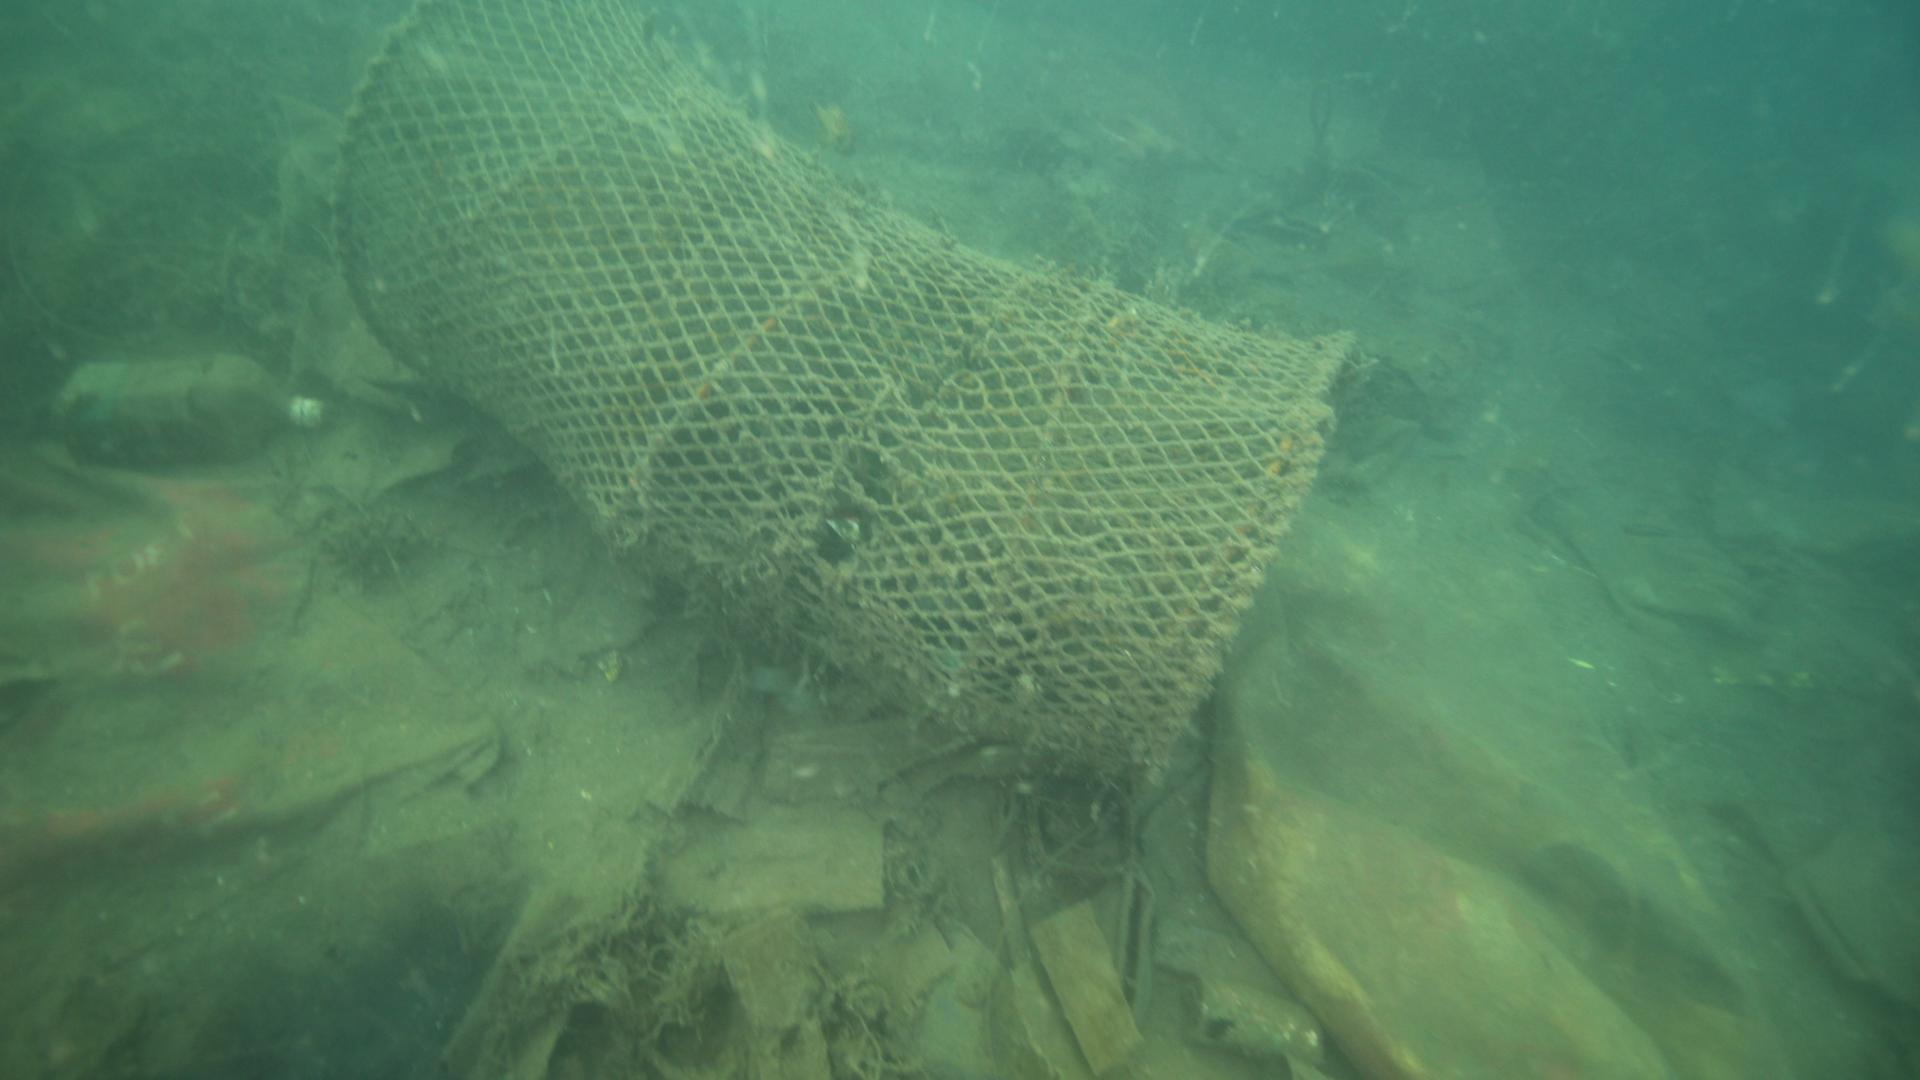spring fish trap: (328, 0, 1353, 822)
